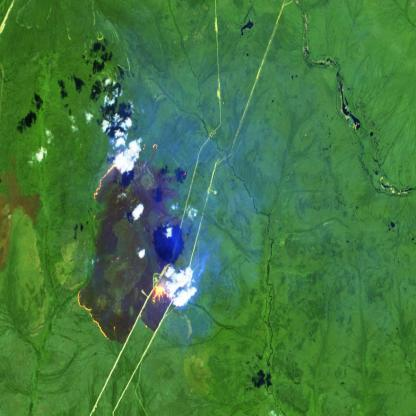fire: (76, 140, 187, 342)
